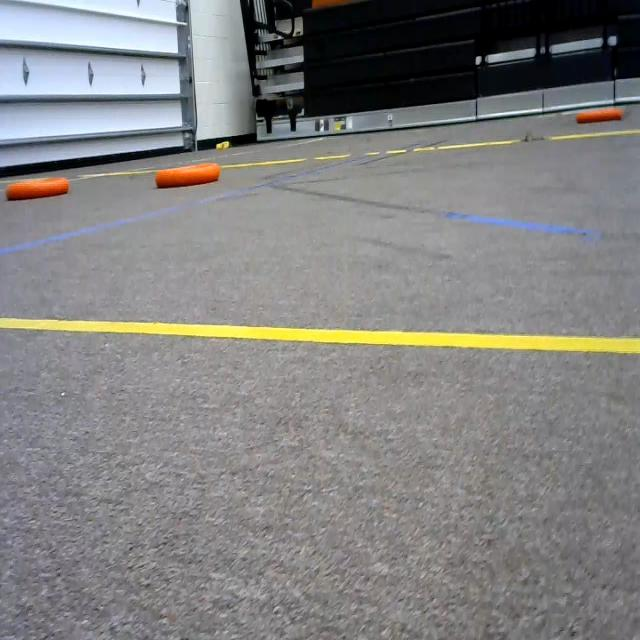note: (150, 156, 226, 192), (5, 173, 69, 202), (574, 106, 630, 128)
